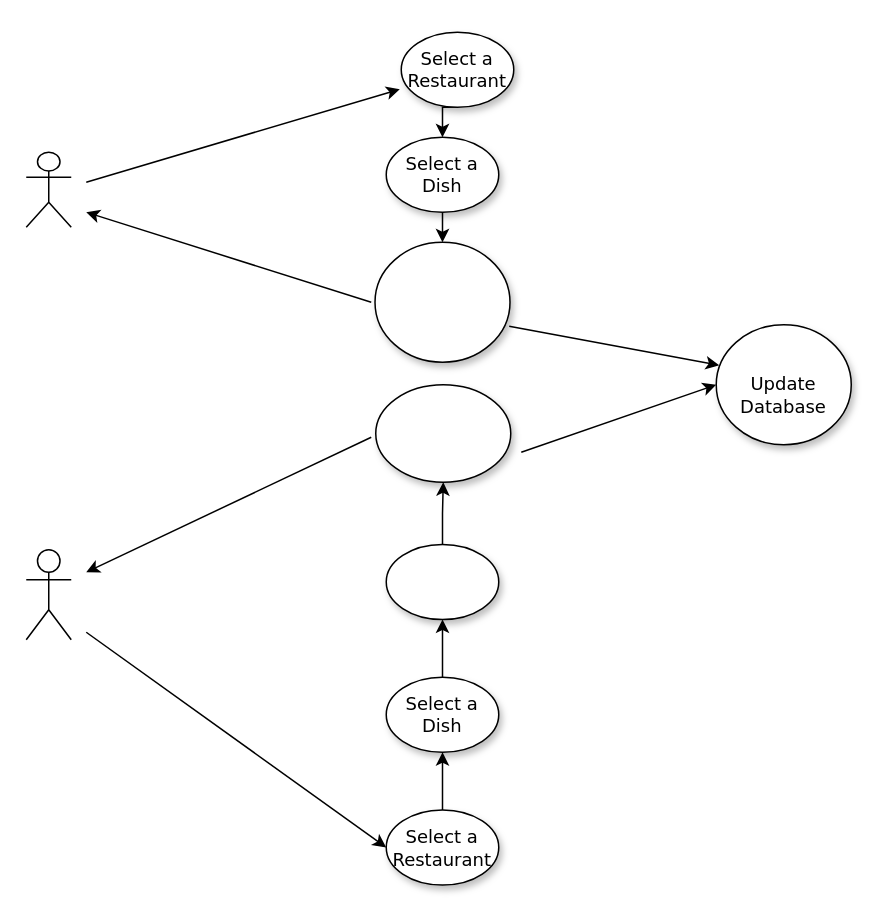
Some shapes in this 887 by 923 pixel diagram are drawn without their labels. The shapes that lost their labels are listed below. From the top down, each one's centre as x and y in pixels, then its label:
the point at 443,304: View Customer Review
the point at 444,435: Write Review
the point at 443,583: Order a Dish
